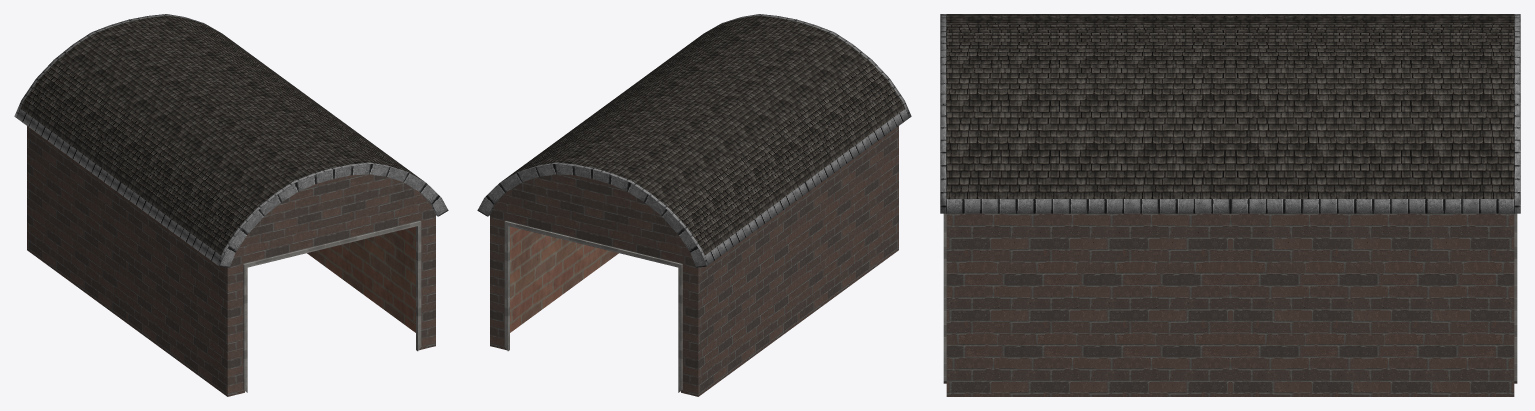
Rendered from BarnThing.fbx.
3 renders of one model, left to right at view 1: azimuth 30°, elevation 25°; view 2: azimuth 150°, elevation 25°; view 3: azimuth 270°, elevation 25°, orthographic. The views are drawn at different scales.
Visible parts, largest first — view 1: Barn; view 2: Barn; view 3: Barn.
Boxes of the visible parts, x1,y1,x2,y2 form: Barn: (14, 14, 448, 396); Barn: (477, 14, 911, 396); Barn: (940, 14, 1520, 396).
Bounding box in the file's own units: 660 × 560 × 1022.
